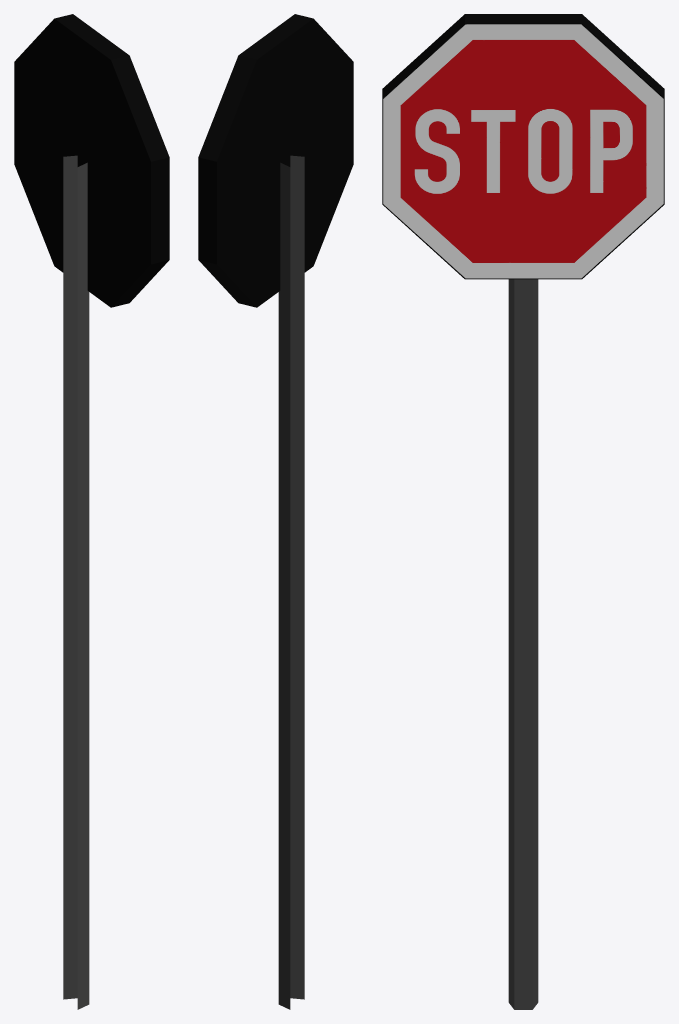
File: stopsign.obj
3 views of the same model, side by side, from view 1: azimuth 30°, elevation 25°; view 2: azimuth 150°, elevation 25°; view 3: azimuth 270°, elevation 25° (orthographic). The views are drawn at different scales.
Parts seen in each view (by area): view 1: Stop_Cylinder; view 2: Stop_Cylinder; view 3: Stop_Cylinder.
Boxes of the visible parts, box(x1,y1,x2,y2) form: Stop_Cylinder: box(14, 14, 169, 1009); Stop_Cylinder: box(198, 14, 353, 1009); Stop_Cylinder: box(382, 14, 664, 1009).
Size of the model in its own units: 0.0698 by 1.61 by 0.4153.
Materials: 1 (1 with a texture image).
